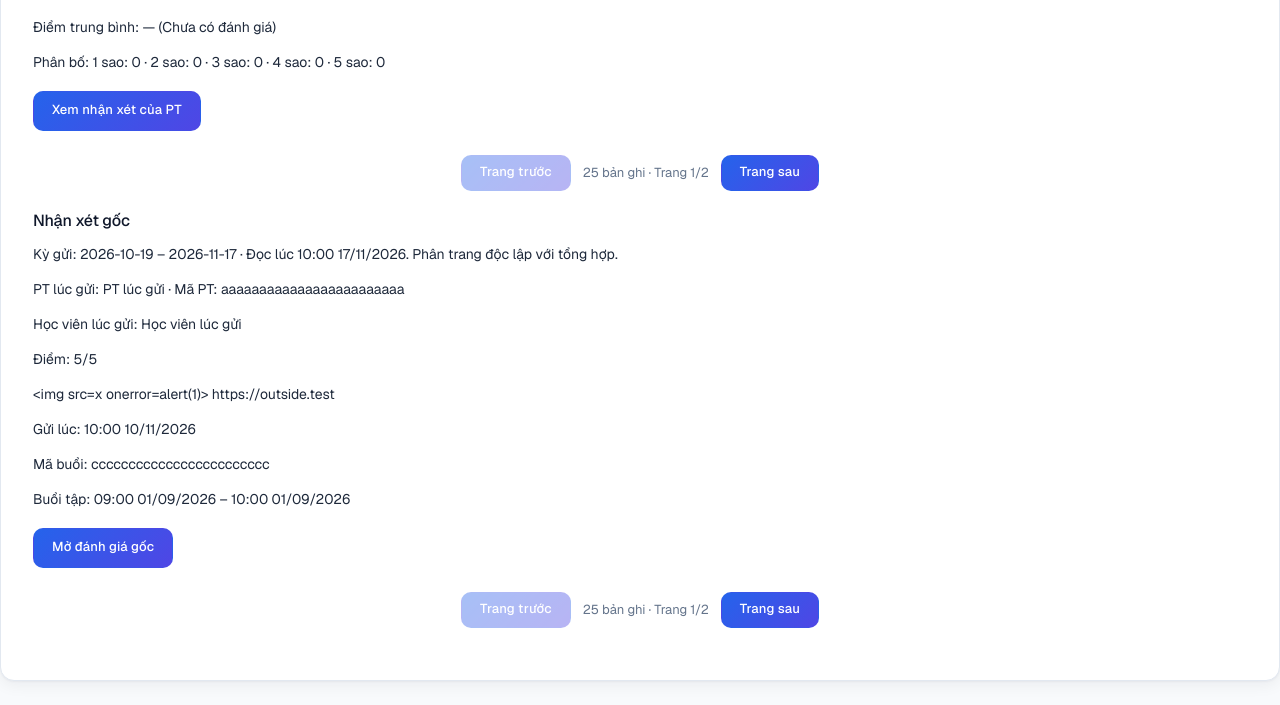
it: US-33: Admin summary và nhận xét gốc › TC09/10/11: drill-down GET nguồn, snapshot và mã buổi, HTML/URL chỉ là chữ, không có nút ghi
(page scrolled)
Click the button "Mở đánh giá gốc".
click(103, 548)  # box [33,528,173,568]
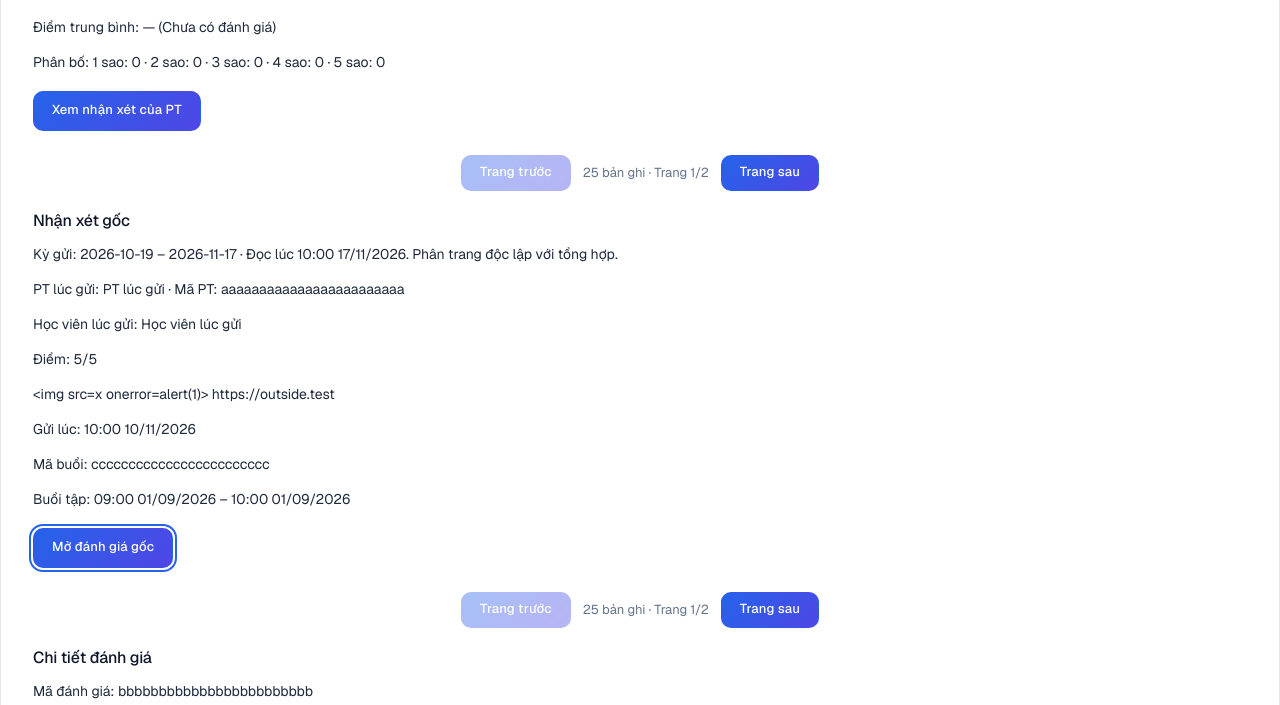
Click the button "Mở đánh giá gốc".
click(103, 548)  # box [33,528,173,568]
(page scrolled)
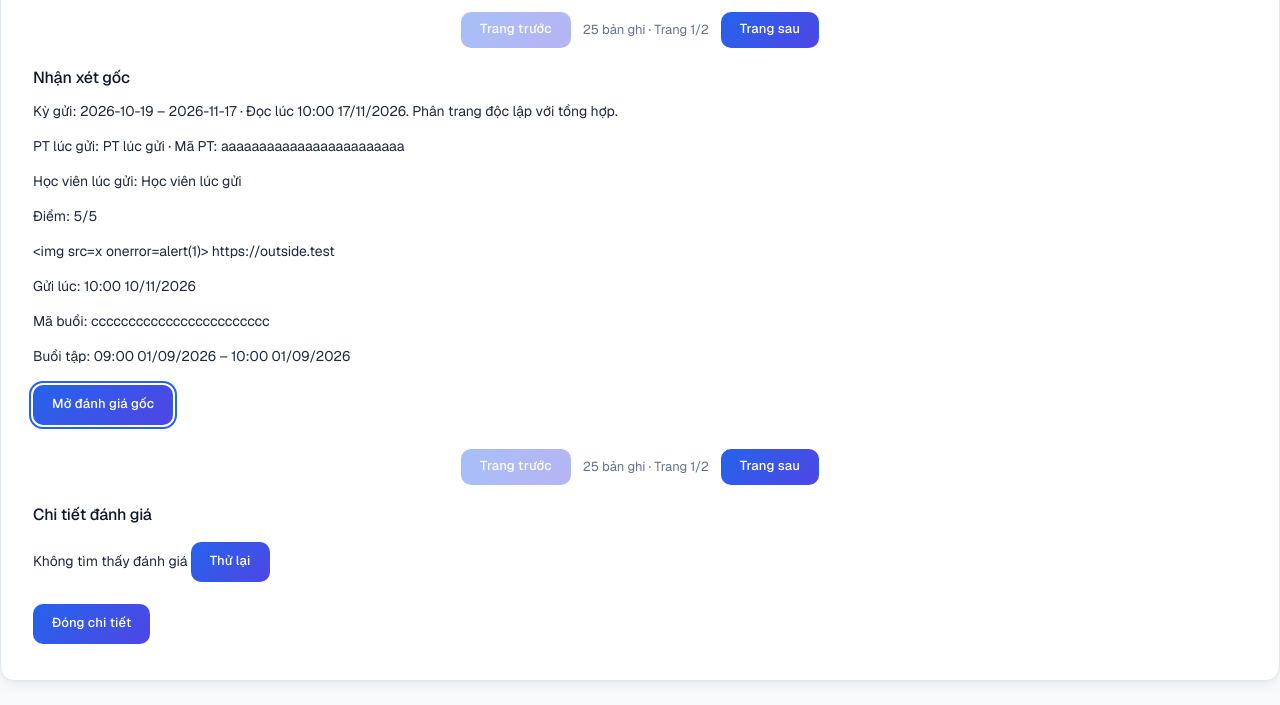
Check: the message "Không tìm thấy đánh giá Thử lại" is shown, box [33,542,270,582]
